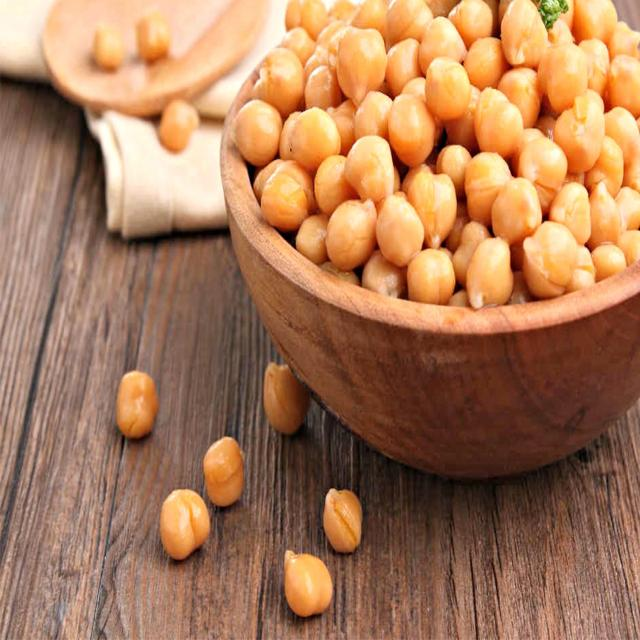garbanzos: (225, 6, 638, 334)
